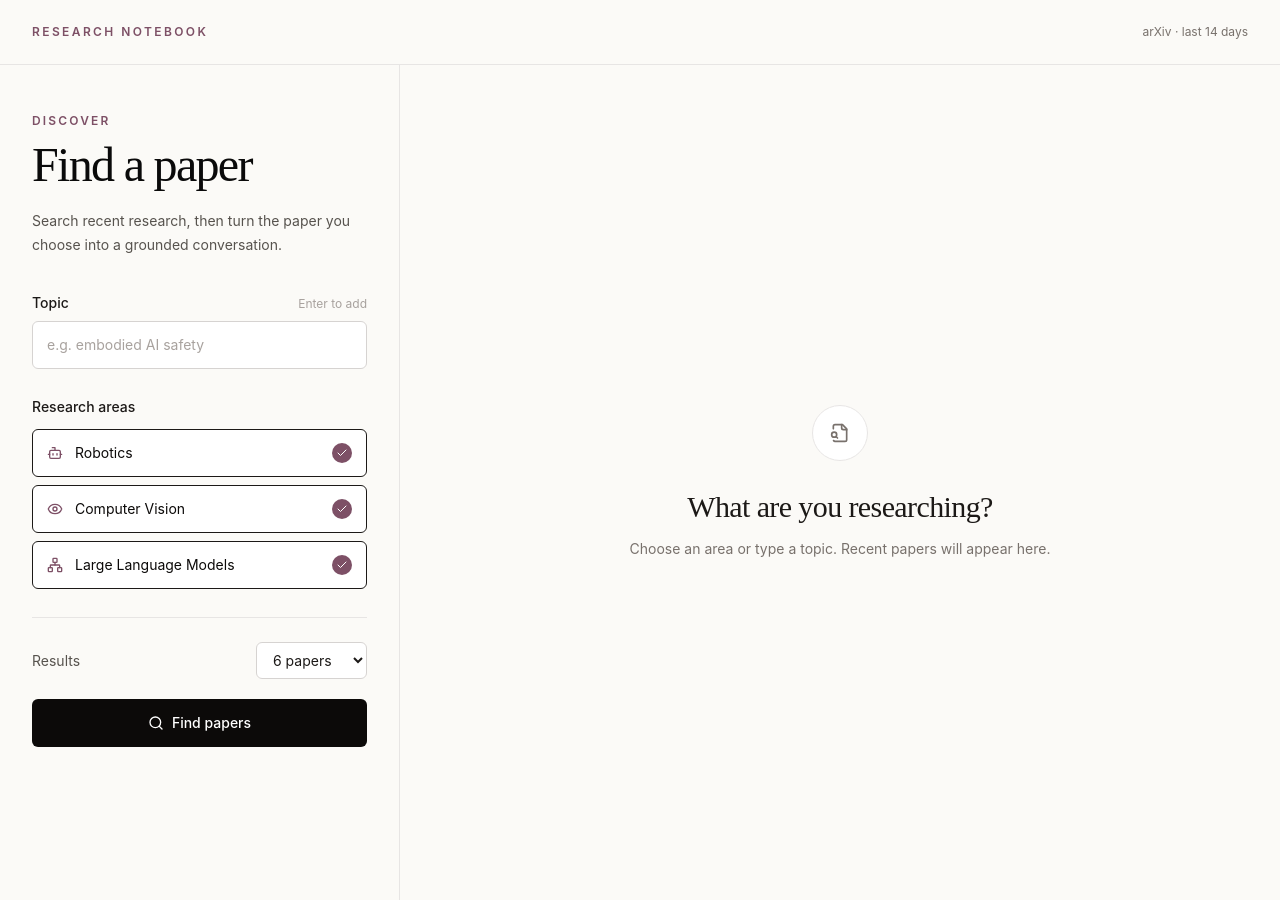
ResearchPaperFinder › turns a typed topic into a selected topic tile on Enter
The width and height of the screenshot is (1280, 900).
Type "embodied AI safety" into the search field labelled "Topic".
click(200, 345); type("embodied AI safety")  # box left=32, top=321, right=367, bottom=369
Then press Enter
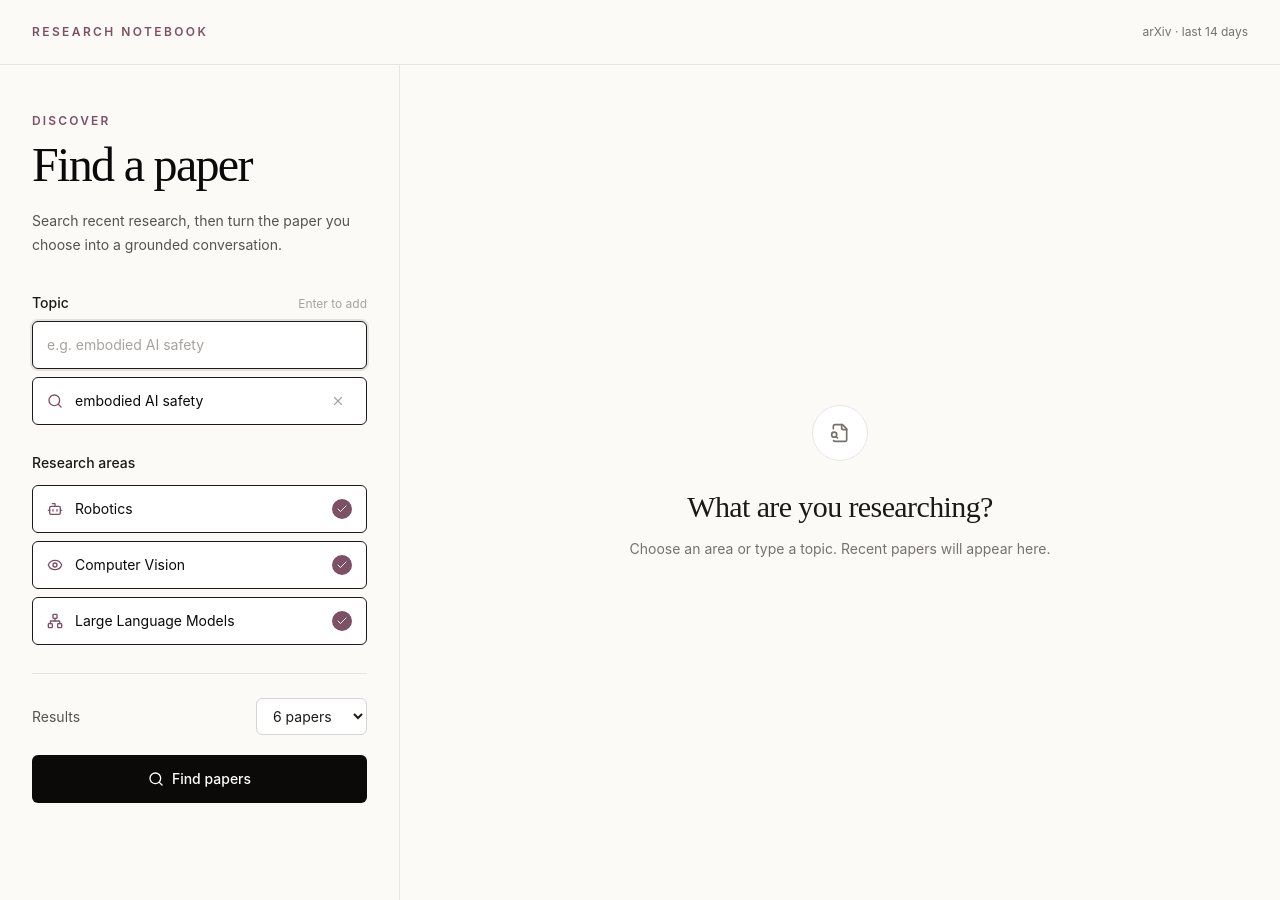
Expected: the button named "Remove topic embodied AI safety" is shown, left=324, top=387, right=352, bottom=415
